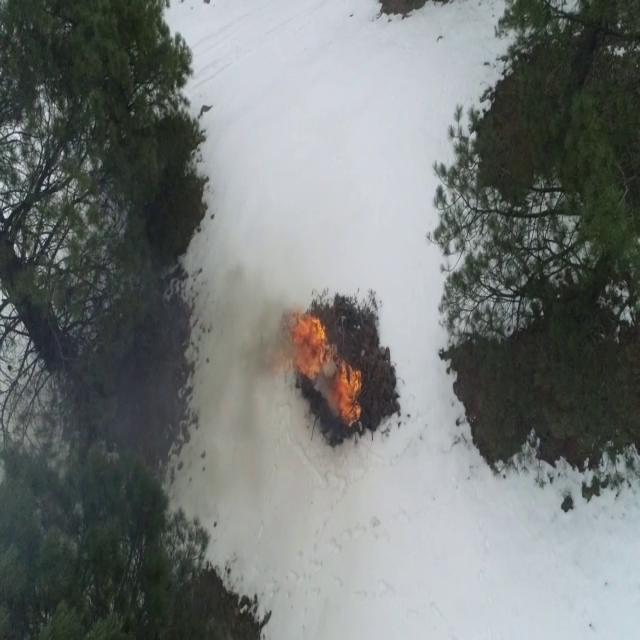fire: (285, 312, 324, 377), (335, 364, 363, 424)
